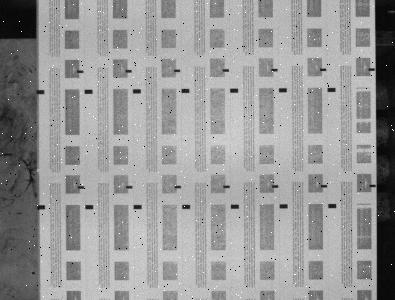qblock: (182, 204, 191, 209), (328, 203, 337, 208), (85, 89, 93, 94), (327, 88, 336, 92), (279, 88, 287, 92), (230, 88, 238, 92), (37, 205, 45, 209), (85, 205, 93, 209), (134, 205, 142, 209), (133, 89, 141, 93), (182, 89, 190, 93), (231, 204, 239, 208), (280, 204, 288, 208), (36, 90, 44, 94)
smallqblock: (174, 69, 181, 72), (77, 70, 84, 73), (126, 186, 133, 189), (320, 68, 327, 71), (125, 69, 132, 72), (271, 68, 278, 71), (272, 185, 279, 188), (222, 69, 229, 72), (369, 68, 375, 71), (224, 185, 230, 188), (78, 186, 84, 189), (175, 185, 181, 188), (321, 184, 327, 187), (370, 184, 376, 187)
